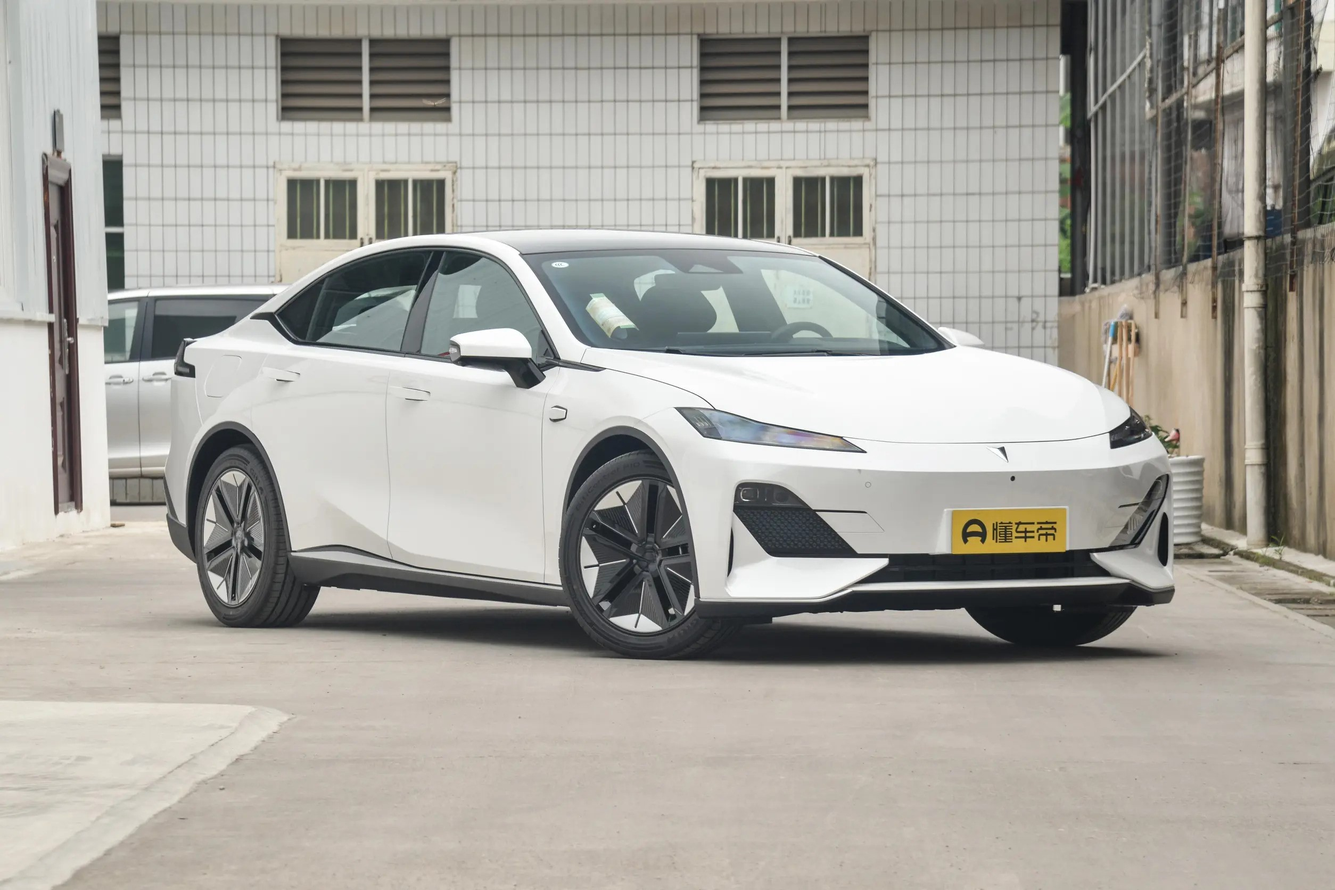Deepal: (986, 446, 1008, 462)
